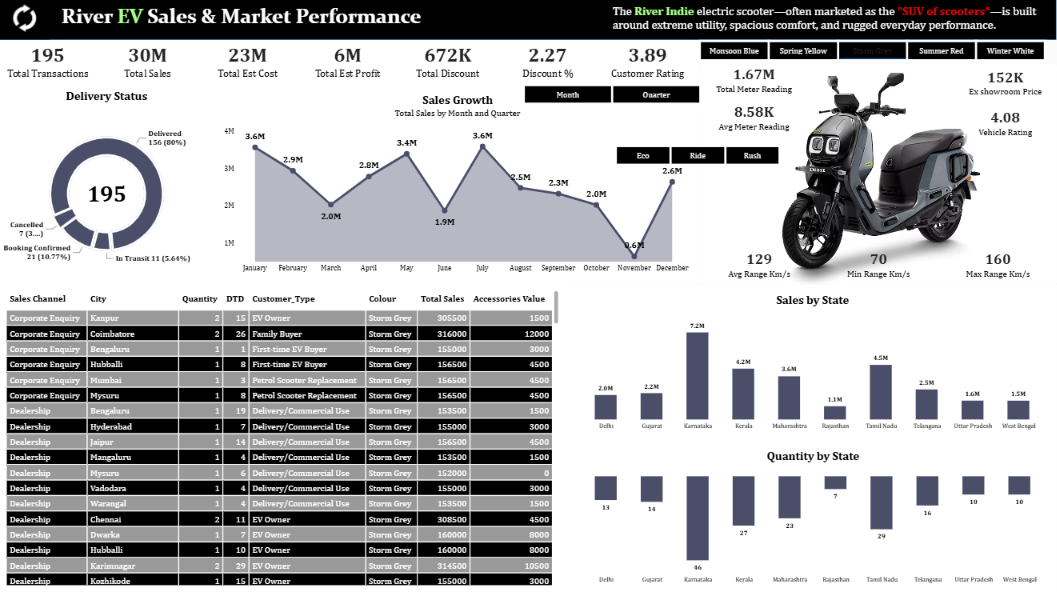

The dashboard page shown, as its layout file describes it:
{"tool":"powerbi","page":{"name":"Page 1","canvas":[1920,1080],"ordinal":0},"visuals":[{"type":"cardVisual","fields":{"Data":["Transactions.Total Transactions","Transactions.Total Sales","Transactions.Total Est Cost","Transactions.Total Est Profit","Transactions.Total Discount Given","Transactions.Total Discount Percentage","Transactions.Customer Rating"]},"box":[0,76,1268.6,83.2],"z":0},{"type":"cardVisual","fields":{"Data":["Min(Transactions.Image URL)"]},"box":[1270.5,122.1,649.5,399.1],"z":0,"group":"g1"},{"type":"shape","box":[0,0,1918.2,77.8],"z":1000},{"type":"cardVisual","fields":{"Data":["Transactions.Ex showroom price of Individual Vehicle"]},"box":[1727.7,120.1,191.9,72.4],"z":2000,"group":"g2"},{"type":"lineChart","title":"Sales Growth","fields":{"Category":["Transactions.Order_Date.Variation.Date Hierarchy.Month","Transactions.Order_Date.Variation.Date Hierarchy.Quarter"],"Y":["Transactions.Total Sales"]},"box":[394.5,159.3,875.9,360.1],"z":2000},{"type":"advancedSlicerVisual","fields":{"Values":["Date Axis.Date Axis"]},"box":[930.2,157.4,365.6,38],"z":3000},{"type":"advancedSlicerVisual","fields":{"Values":["Transactions.Colour"]},"box":[1248.7,77.8,669.6,39.8],"z":4000},{"type":"cardVisual","fields":{"Data":["Transactions.Average Rating"]},"box":[1727.7,192.5,191.9,75.7],"z":4000,"group":"g2"},{"type":"cardVisual","fields":{"Data":["Transactions.Average Range","Transactions.Minimum Range","Transactions.Maximum Range"]},"box":[1270.4,454.5,649.7,62.2],"z":4000,"group":"g1"},{"type":"actionButton","box":[0,0,97.7,77.8],"z":5000},{"type":"cardVisual","fields":{"Data":["Transactions.Total Odometer Reading","Transactions.Average Odometer Reading"]},"box":[1269.7,118.3,197.3,135.7],"z":5000,"group":"g1"},{"type":"textbox","box":[97.7,12.7,803.5,56.1],"z":6000},{"type":"donutChart","title":"Delivery Status","fields":{"Category":["Transactions.Delivery_Status"],"Y":["CountNonNull(Transactions.Delivery_Status)"]},"box":[0,152,394.5,369.2],"z":7000},{"type":"lineClusteredColumnComboChart","title":"Sales by State","fields":{"Category":["Transactions.State"],"Y":["Transactions.Total Sales"]},"box":[1031.5,521.2,886.7,282.3],"z":8000},{"type":"group","id":"g1","title":"Group 2","box":[1269.7,118.3,650.4,402.9],"z":9000},{"type":"group","id":"g2","title":"Group 1","box":[1727.7,120.1,191.9,149.9],"z":9000,"group":"g1"},{"type":"clusteredColumnChart","title":"Quantity by State","fields":{"Category":["Transactions.State"],"Y":["CountNonNull(Transactions.Quantity)"]},"box":[1031.5,803.5,888.5,276.9],"z":10000},{"type":"tableEx","fields":{"Values":["Transactions.Sales_Channel","Transactions.City","Sum(Transactions.Quantity)","Sum(Transactions.Days_To_Delivery)","Transactions.Customer_Type","Transactions.Colour","Transactions.Total Sales","Transactions.Accessories Value"]},"box":[0,517.6,1031.5,562.8],"z":11000},{"type":"advancedSlicerVisual","fields":{"Values":["Transactions.Preferred_Riding_Mode"]},"box":[1096.7,267.8,343.8,38],"z":12000},{"type":"textbox","box":[1112.9,12.7,805.3,54.3],"z":12001}]}

Visuals, with their boxes in screenshot pixels (x1, y1, x2, y2), scaled from the page's 1920x1080 canvas onto the 1057x592 screenshot:
cardVisual - Transactions.Total Transactions x Transactions.Total Sales: <box>0,42,698,87</box>
cardVisual - Min(Transactions.Image URL): <box>699,67,1056,286</box>
shape: <box>0,0,1056,43</box>
cardVisual - Transactions.Ex showroom price of Individual Vehicle: <box>951,66,1056,106</box>
"Sales Growth" lineChart: <box>217,87,699,285</box>
advancedSlicerVisual - Date Axis.Date Axis: <box>512,86,713,107</box>
advancedSlicerVisual - Transactions.Colour: <box>687,43,1056,64</box>
cardVisual - Transactions.Average Rating: <box>951,106,1056,147</box>
cardVisual - Transactions.Average Range x Transactions.Minimum Range: <box>699,249,1056,283</box>
actionButton: <box>0,0,54,43</box>
cardVisual - Transactions.Total Odometer Reading x Transactions.Average Odometer Reading: <box>699,65,808,139</box>
textbox: <box>54,7,496,38</box>
"Delivery Status" donutChart: <box>0,83,217,286</box>
"Sales by State" lineClusteredColumnComboChart: <box>568,286,1056,440</box>
"Group 2" group: <box>699,65,1056,286</box>
"Group 1" group: <box>951,66,1056,148</box>
"Quantity by State" clusteredColumnChart: <box>568,440,1056,591</box>
tableEx - Transactions.Sales_Channel x Transactions.City: <box>0,284,568,591</box>
advancedSlicerVisual - Transactions.Preferred_Riding_Mode: <box>604,147,793,168</box>
textbox: <box>613,7,1056,37</box>
